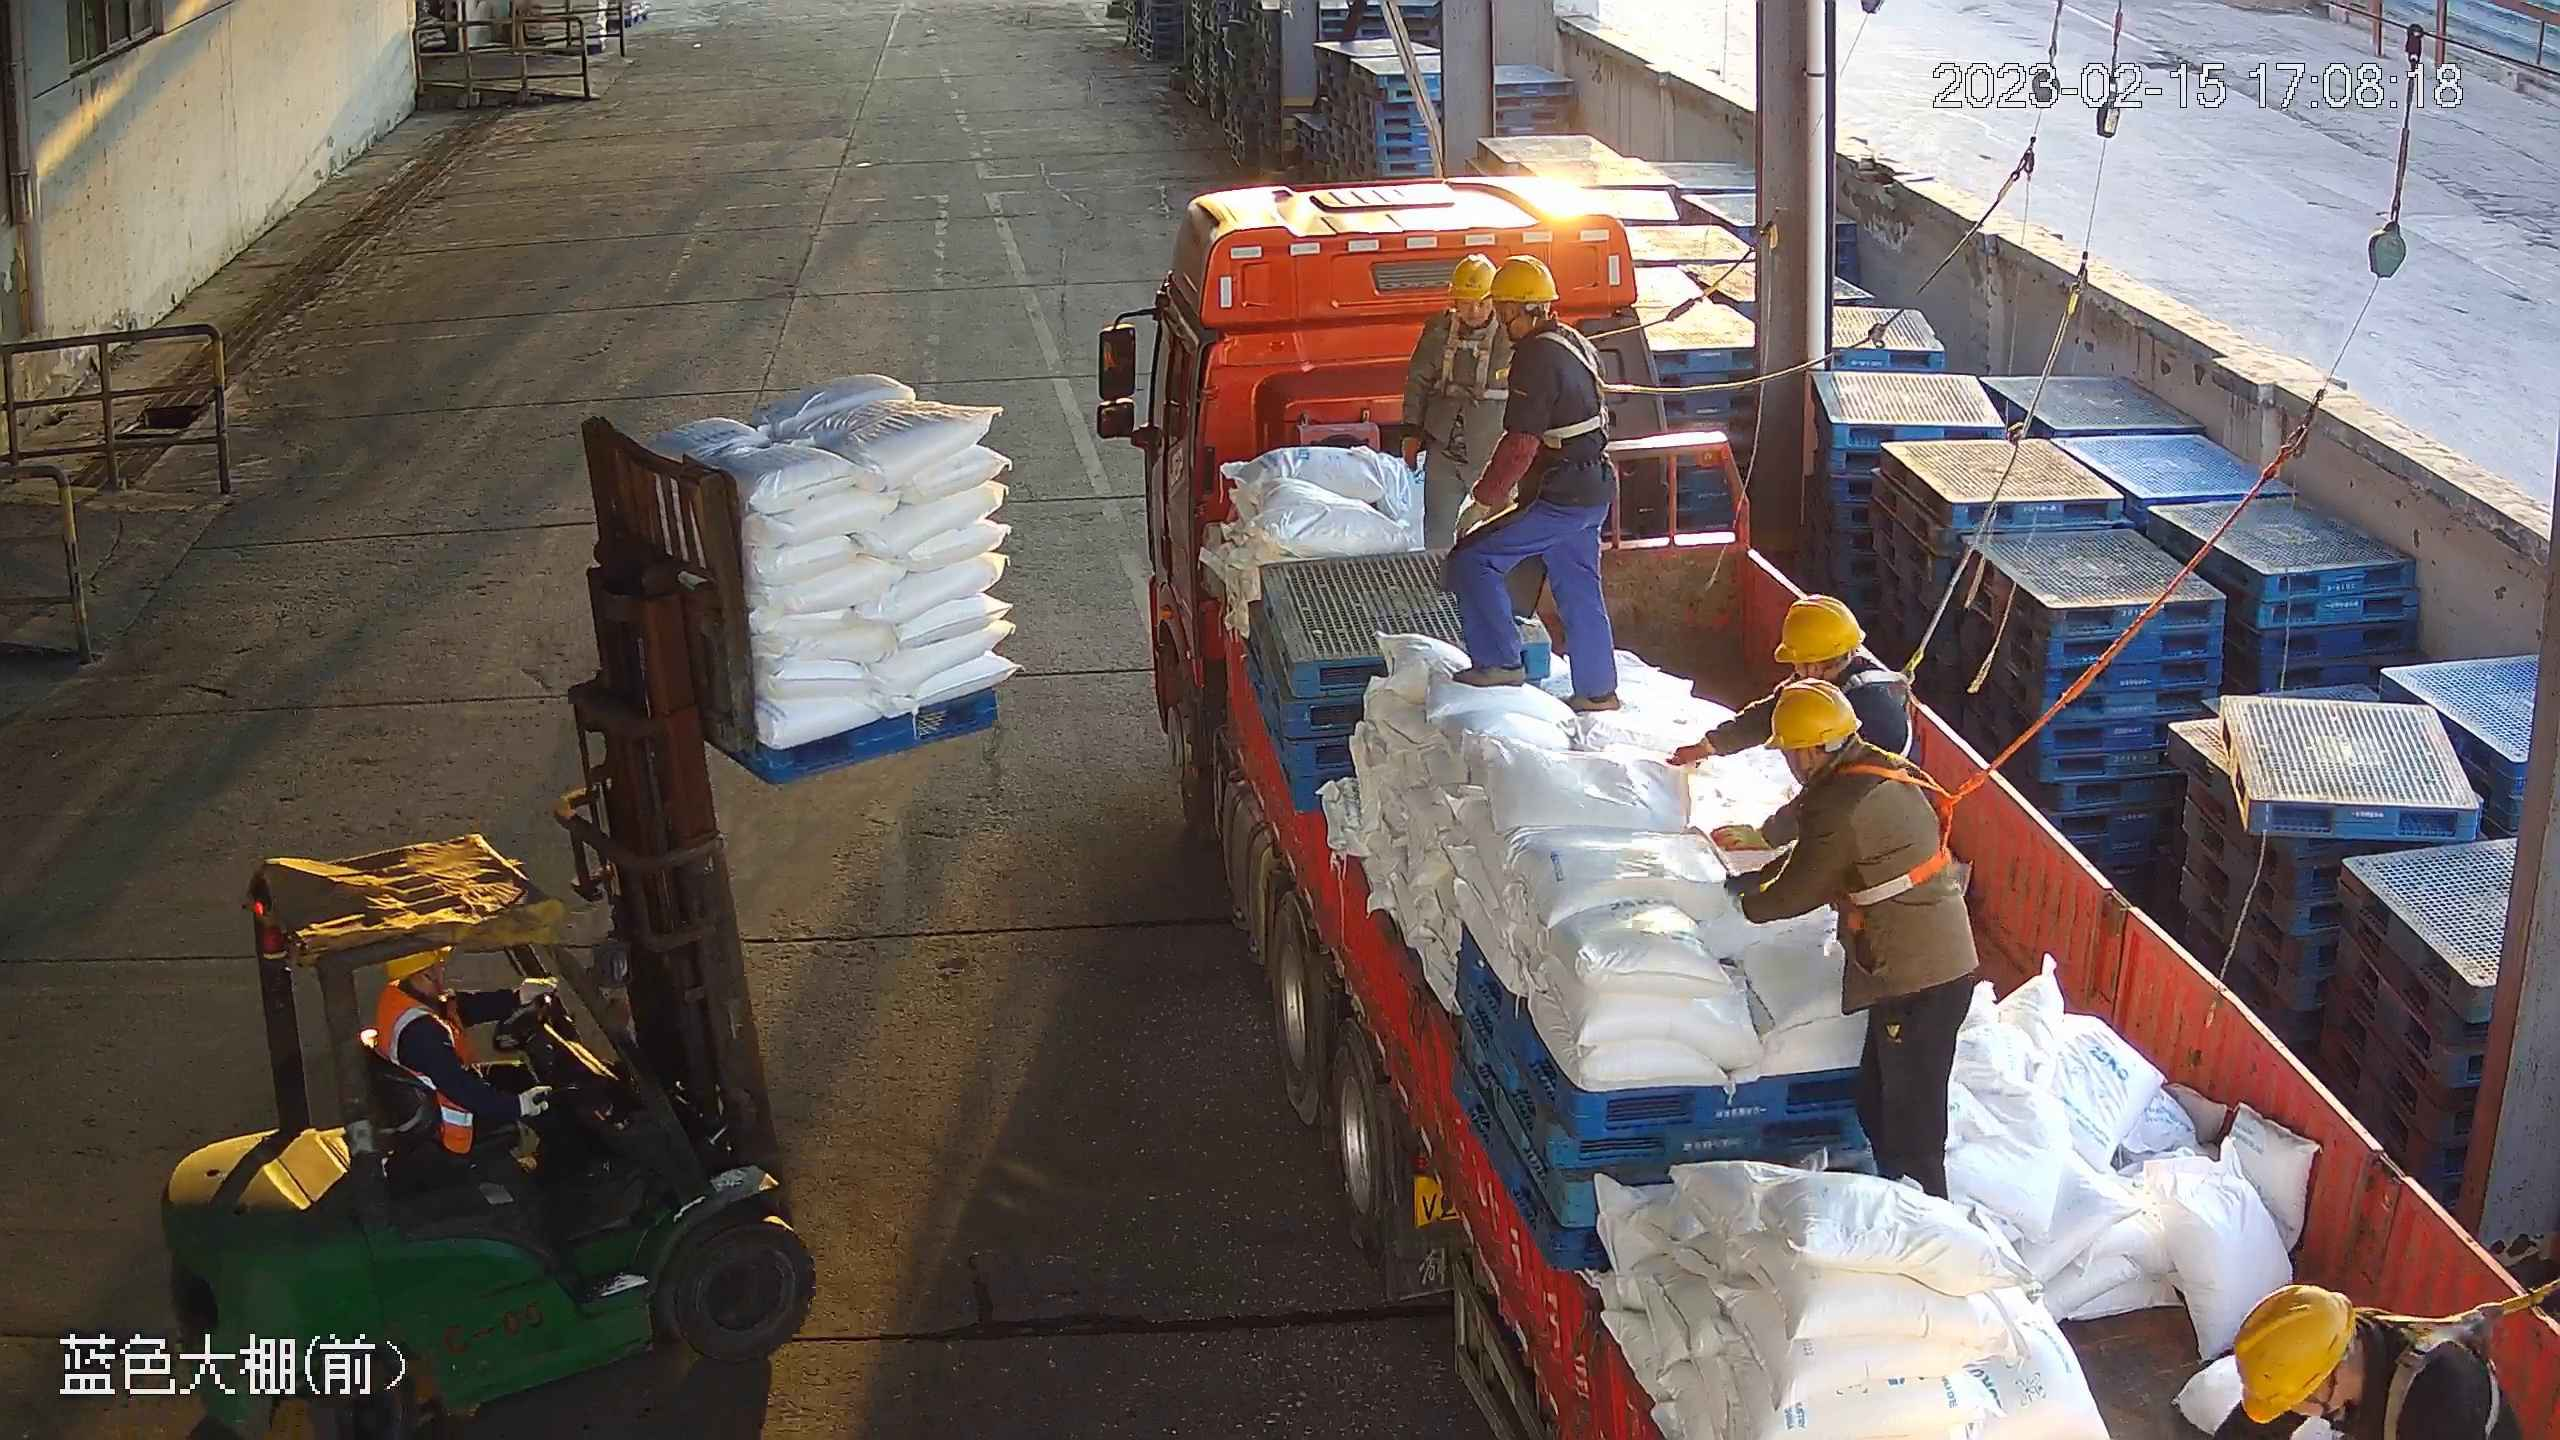belt: (1830, 741, 1967, 905), (1530, 321, 1619, 452), (1842, 648, 1923, 758), (1431, 312, 1508, 401)
head: (1763, 676, 1926, 836), (1490, 256, 1601, 381), (1422, 256, 1509, 352)
helmet: (2234, 1282, 2360, 1427), (1762, 678, 1862, 751), (1772, 591, 1868, 663), (1488, 254, 1560, 303), (1448, 254, 1494, 301)
people: (1728, 676, 1980, 1204), (1438, 254, 1622, 712), (372, 946, 560, 1171), (1400, 253, 1520, 553)
truck: (1094, 176, 2560, 1440)
